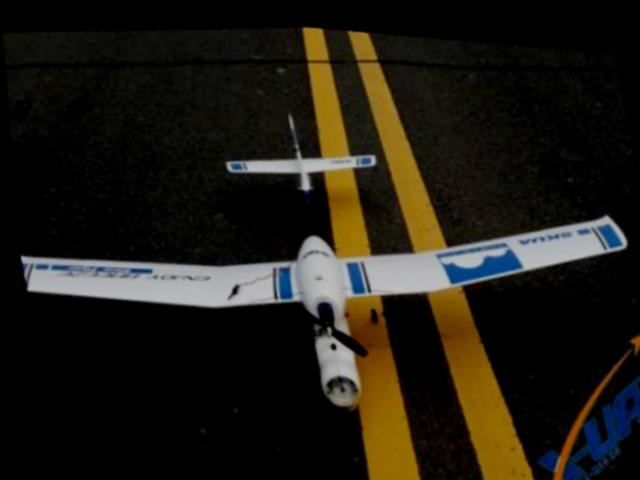uav: (3, 47, 640, 466)
